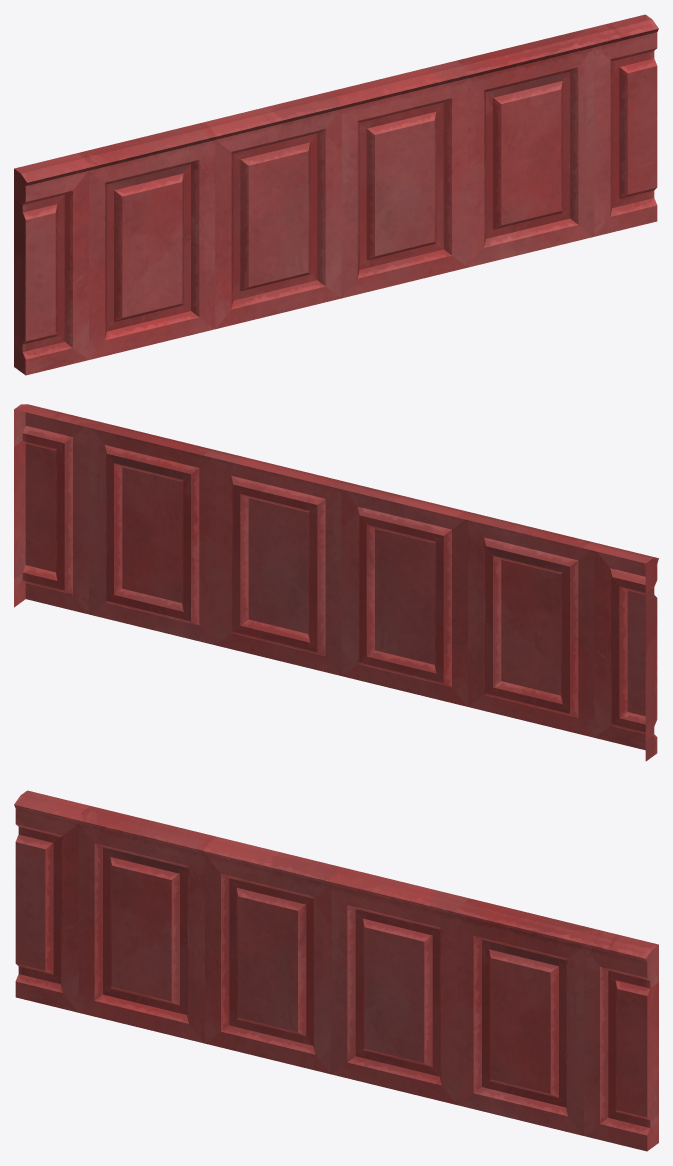
Rendered from Wooden base .fbx.
3 views of the same model, one above another, from view 1: azimuth 30°, elevation 25°; view 2: azimuth 150°, elevation 25°; view 3: azimuth 330°, elevation 25° (orthographic).
Visible parts, largest first — view 1: Wooden base; view 2: Wooden base; view 3: Wooden base.
Boxes of the visible parts, x1,y1,x2,y2 form: Wooden base: (14,14,658,375); Wooden base: (14,404,658,761); Wooden base: (14,790,658,1151).
Size of the model in its own units: 200 by 60 by 7.32.
